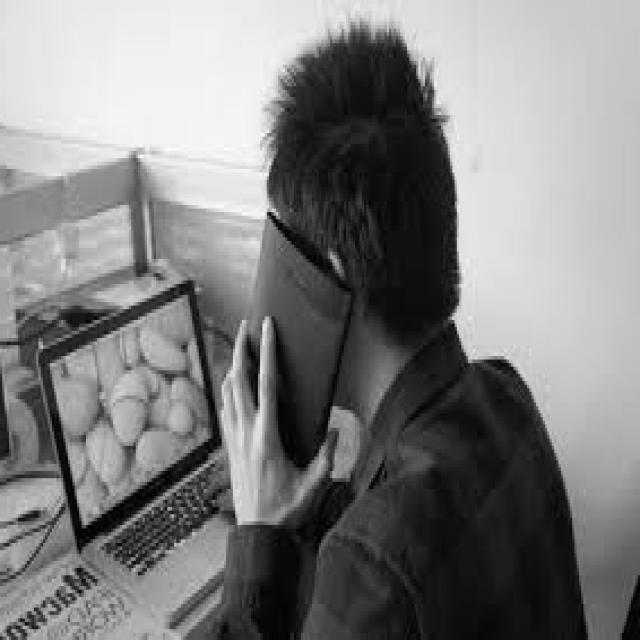phone: (212, 180, 376, 528)
